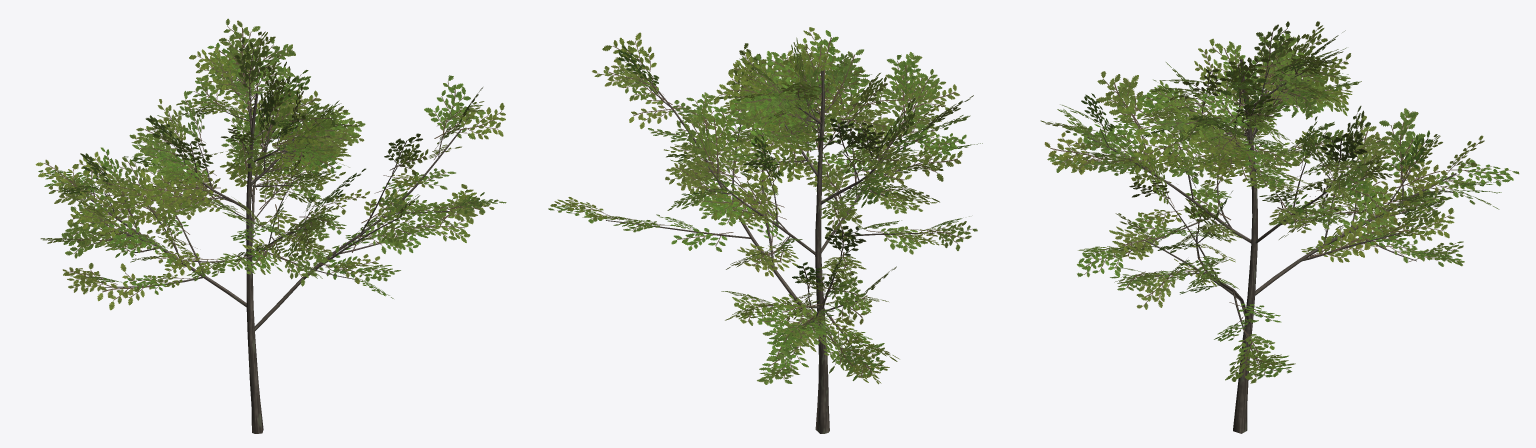
The model's file is dub_mlady.glb.
The picture shows the model from 3 angles, left to right: view 1: azimuth 30°, elevation 25°; view 2: azimuth 150°, elevation 25°; view 3: azimuth 270°, elevation 25°; orthographic projection. The views are drawn at different scales.
Parts seen in each view (by area): view 1: dub_mlady; view 2: dub_mlady; view 3: dub_mlady.
Boxes of the visible parts, <box> form: dub_mlady: <box>35,18,506,433</box>; dub_mlady: <box>548,27,982,433</box>; dub_mlady: <box>1040,21,1519,433</box>.
Size of the model in its own units: 6.91 by 6.36 by 6.78.
2 materials, 2 textured.
